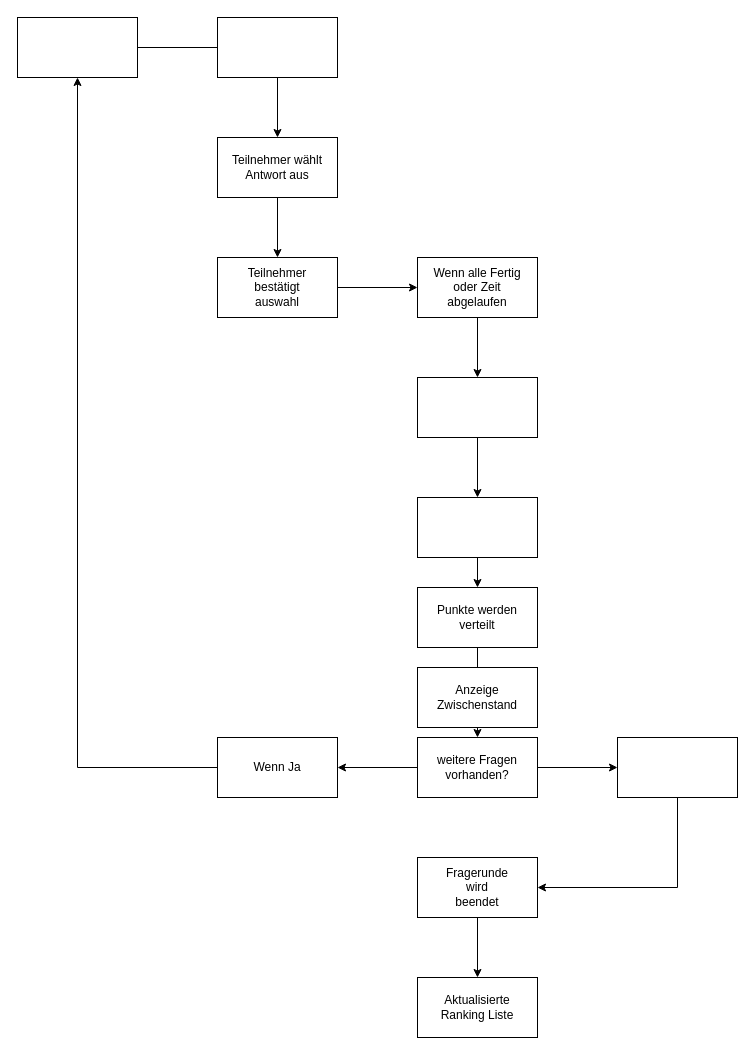
The diagram is 755 pixels wide and 1055 high, and some of its shapes have lost their labels. Here are the shapes that lost their labels. From the top down, the centre of each, then its label:
(x=77, y=47): Frage erscheint
(x=277, y=47): Timer startet
(x=477, y=407): Ergebnis wird berechnet
(x=477, y=527): Ergebnis wird angezeigt
(x=677, y=767): Wenn Nein
